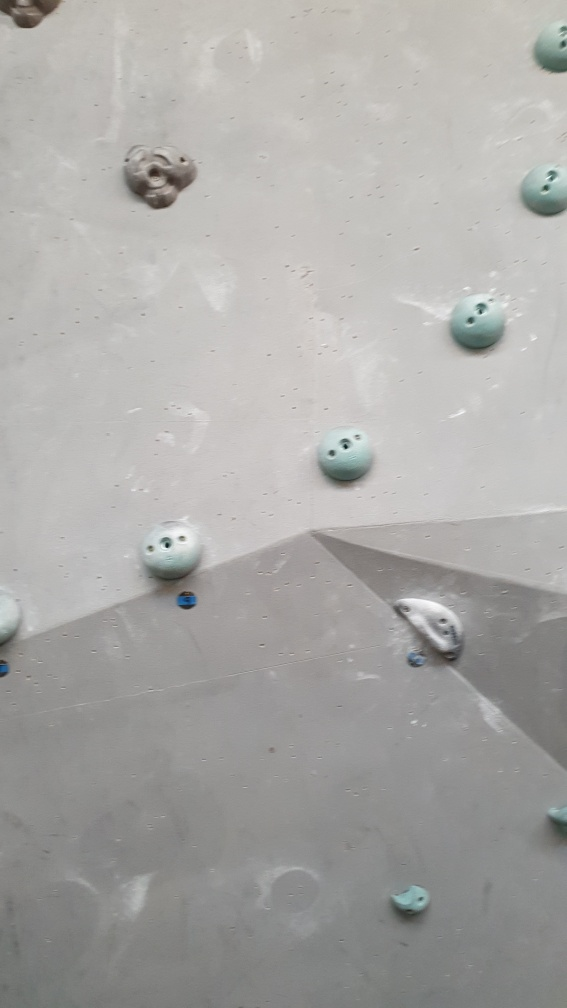Hand Start: (173, 587, 201, 612), (406, 643, 429, 669)
Jug: (124, 143, 203, 209)
Sloper: (442, 286, 513, 355), (314, 418, 381, 488), (139, 515, 207, 581), (523, 161, 567, 215), (536, 14, 567, 76), (1, 584, 25, 656)
